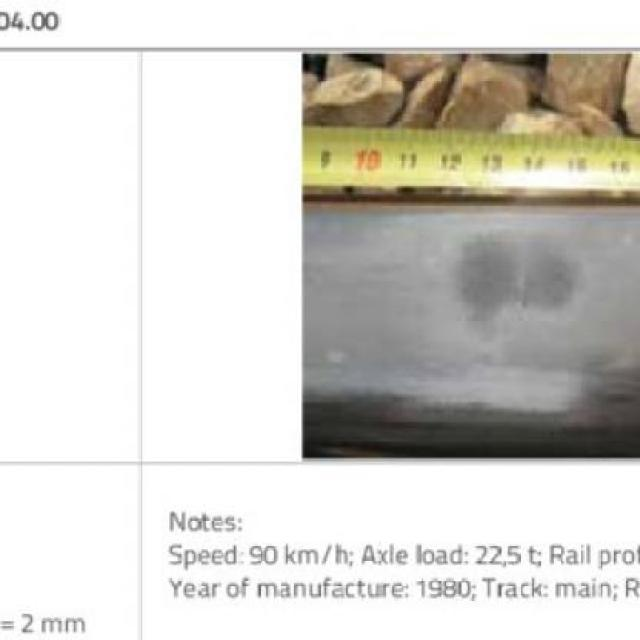defective: (400, 192, 628, 392)
